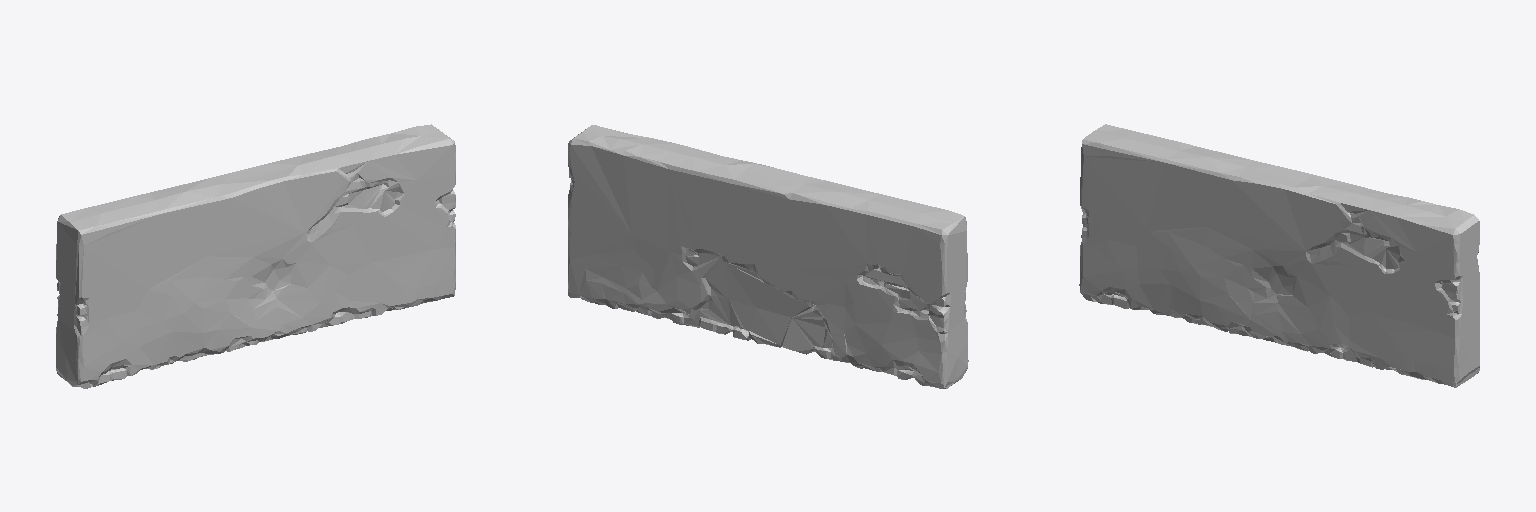
Rendered from wall.obj.
3 renders of one model, left to right at view 1: azimuth 30°, elevation 25°; view 2: azimuth 150°, elevation 25°; view 3: azimuth 330°, elevation 25°, orthographic.
Parts seen in each view (by area): view 1: SM_Wall_Damaged_2x1_A; view 2: SM_Wall_Damaged_2x1_A; view 3: SM_Wall_Damaged_2x1_A.
Boxes of the visible parts, box(x1,y1,x2,y2) form: SM_Wall_Damaged_2x1_A: box(56, 124, 455, 388); SM_Wall_Damaged_2x1_A: box(568, 125, 968, 388); SM_Wall_Damaged_2x1_A: box(1079, 124, 1479, 387).
Bounding box in the file's own units: 26.54 × 10.88 × 3.25.